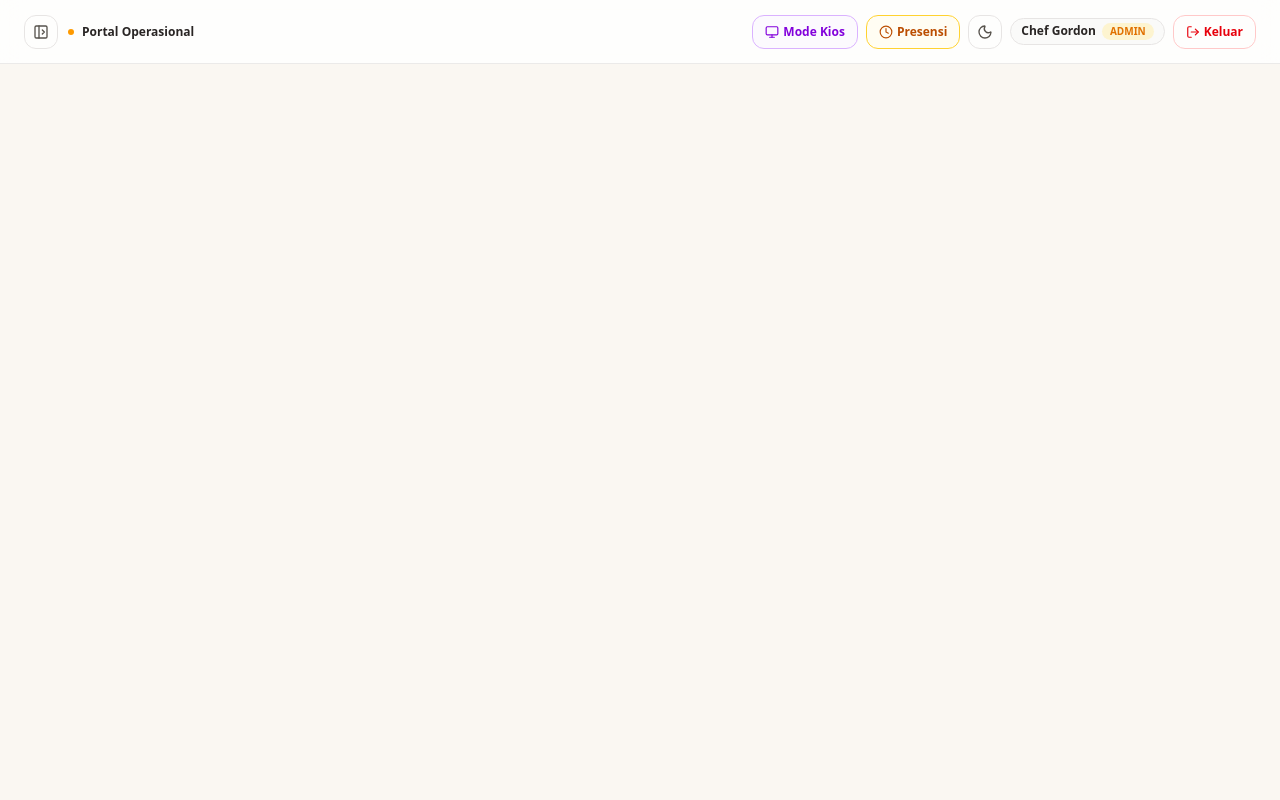
Test case: CommonHeader Component › opens confirmation modal on Keluar button click and cancels logout when Batal is clicked
Later steps or results of the test are not shown.
Click the button "Keluar". click: {"x": 1214, "y": 32}
box: [1173,14,1256,48]
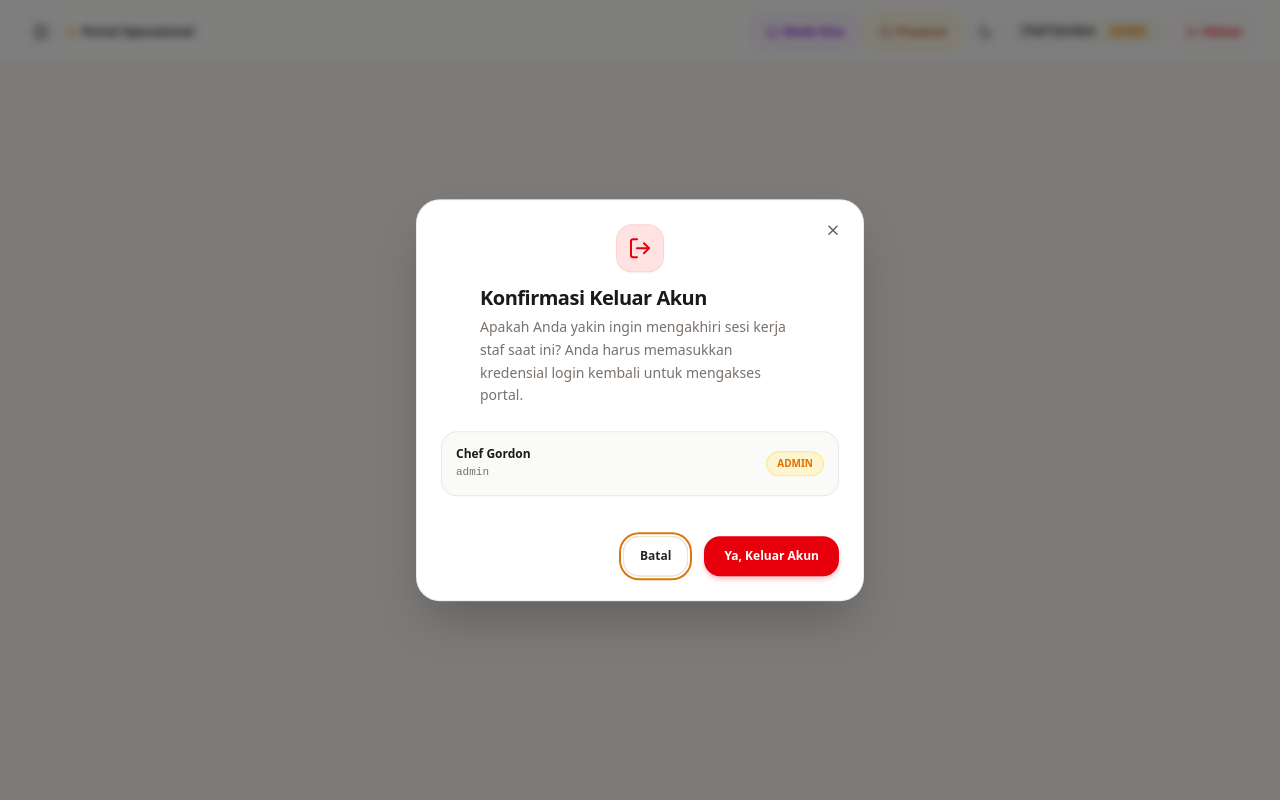
Check: the heading "Konfirmasi Keluar Akun" is shown, box [480,284,707,311]
